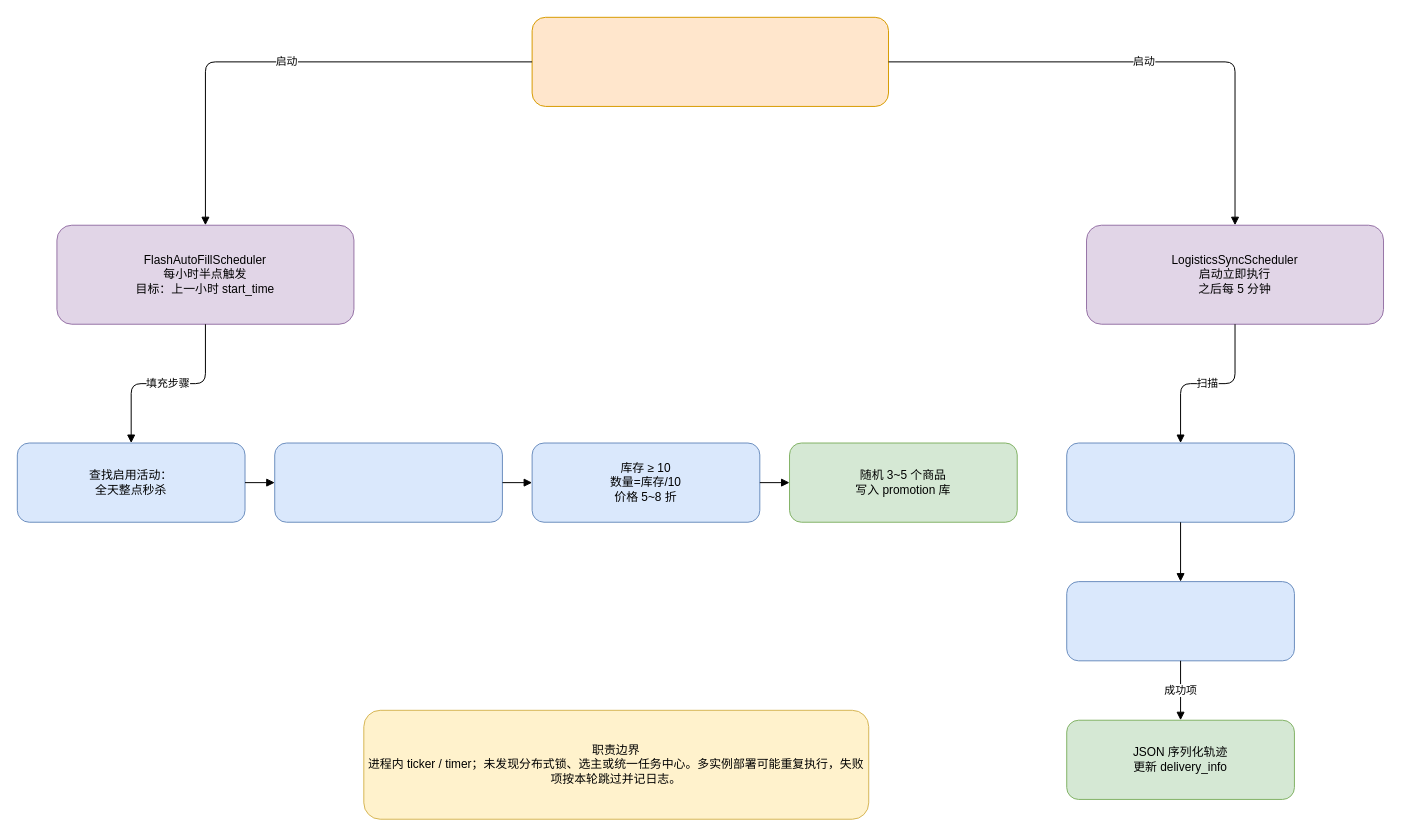
This 1401x837 diagram has some shape labels left out. Here are the shapes that lost their labels. From the top down, the box of each, then its label:
(531, 16, 889, 106): startWebServer 创建 schedulerCtx 启动两个 goroutine
(274, 442, 502, 522): 删除旧关联与 SKU 筛选已上架商品
(1066, 442, 1294, 522): 查询 order 库 status=2 且有 delivery_sn
(1066, 581, 1294, 661): 按 company 解析 provider SyncDelivery
